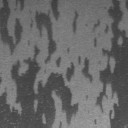red iron: (0, 0, 93, 128), (96, 0, 128, 128), (0, 0, 22, 54), (14, 0, 25, 12), (73, 12, 78, 32), (92, 19, 100, 30), (56, 56, 62, 68), (94, 37, 96, 46), (0, 76, 2, 84), (94, 118, 96, 124)
